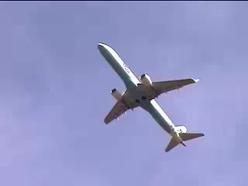aircraft: (96, 40, 206, 154)
